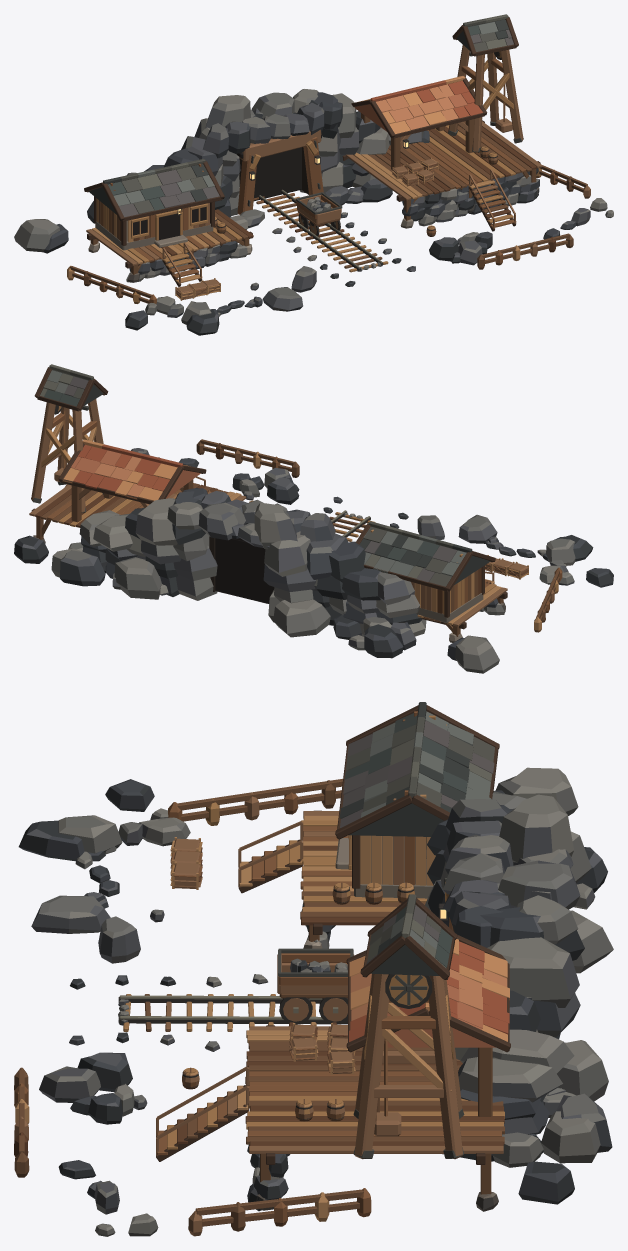
File: greyhollow-mine.glb
3 renders of one model, top to bottom at view 1: azimuth 30°, elevation 25°; view 2: azimuth 150°, elevation 25°; view 3: azimuth 270°, elevation 25°, orthographic. The views are drawn at different scales.
Parts seen in each view (by area): view 1: 03 • Two rising workshop decks, 01 • Double-split slate face and south portal, 05 • Terraced slate spoil and staging, 04 • Ore hoist / tram gantry, 02 • Rail approach, cart and sluice; view 2: 01 • Double-split slate face and south portal, 05 • Terraced slate spoil and staging, 03 • Two rising workshop decks, 04 • Ore hoist / tram gantry, 02 • Rail approach, cart and sluice; view 3: 03 • Two rising workshop decks, 05 • Terraced slate spoil and staging, 01 • Double-split slate face and south portal, 04 • Ore hoist / tram gantry, 02 • Rail approach, cart and sluice.
Part boxes in pixels (<box>): 03 • Two rising workshop decks: <box>84,76,542,286</box>; 01 • Double-split slate face and south portal: <box>127,89,429,229</box>; 05 • Terraced slate spoil and staging: <box>14,165,613,335</box>; 04 • Ore hoist / tram gantry: <box>448,14,523,152</box>; 02 • Rail approach, cart and sluice: <box>253,189,415,286</box>; 01 • Double-split slate face and south portal: <box>79,488,426,636</box>; 05 • Terraced slate spoil and staging: <box>14,439,613,673</box>; 03 • Two rising workshop decks: <box>29,439,507,642</box>; 04 • Ore hoist / tram gantry: <box>31,364,108,513</box>; 02 • Rail approach, cart and sluice: <box>323,496,408,541</box>; 03 • Two rising workshop decks: <box>156,702,510,1211</box>; 05 • Terraced slate spoil and staging: <box>14,767,613,1236</box>; 01 • Double-split slate face and south portal: <box>425,791,591,1161</box>; 04 • Ore hoist / tram gantry: <box>353,894,464,1159</box>; 02 • Rail approach, cart and sluice: <box>69,948,354,1051</box>.
Size of the model in its own units: 46.3 by 14 by 26.45.
Materials: 3 (2 with a texture image).
